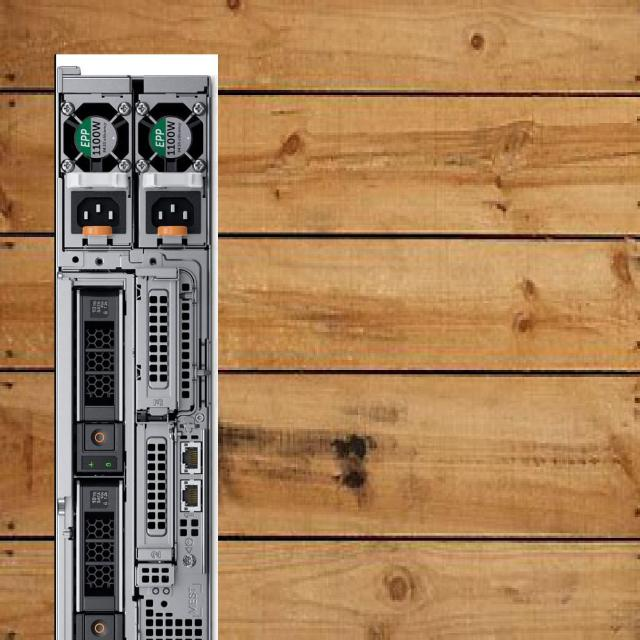Server: (54, 54, 218, 640)
